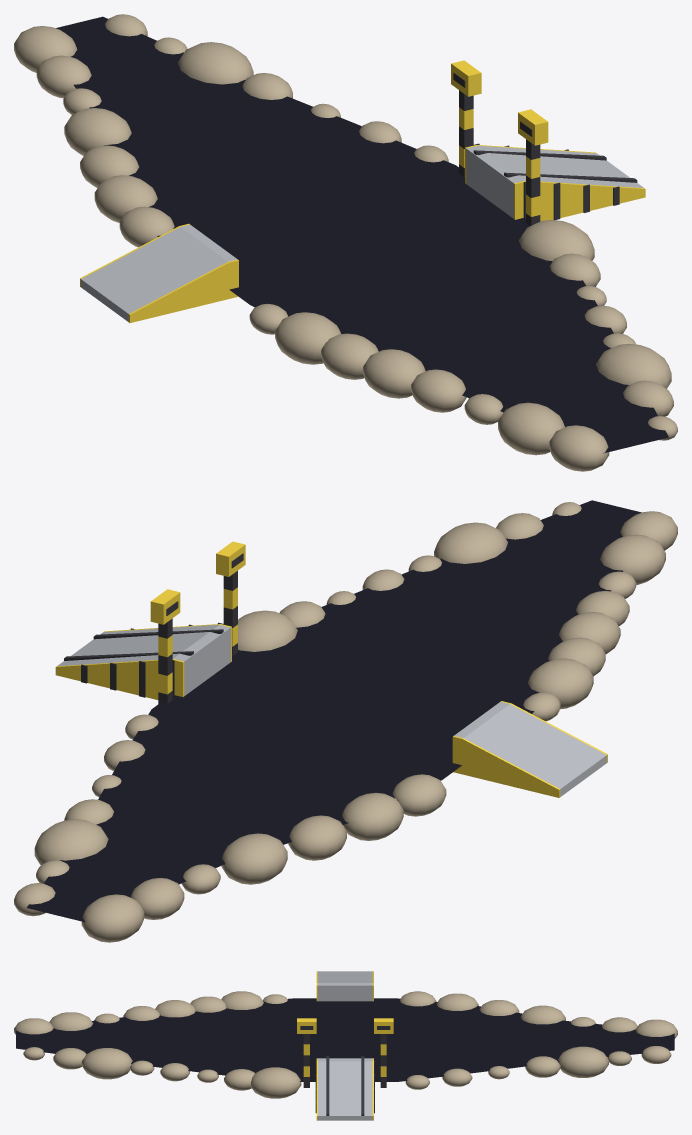
Rendered from Jump.fbx.
3 renders of one model, top to bottom at view 1: azimuth 30°, elevation 25°; view 2: azimuth 150°, elevation 25°; view 3: azimuth 270°, elevation 25°, orthographic. The views are drawn at different scales.
Parts seen in each view (by area): view 1: Jump; view 2: Jump; view 3: Jump.
Part boxes in pixels (x1,y1,x2,y2): Jump: [14, 14, 677, 471]; Jump: [14, 500, 677, 942]; Jump: [14, 971, 677, 1120].
Bounding box in the file's own units: 15.6 × 3.88 × 30.24.
